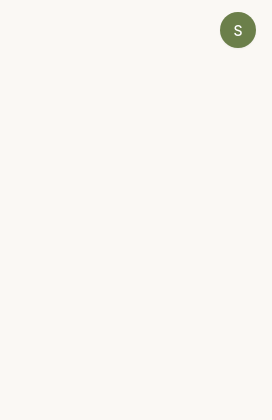
Scenario: ProfileMenu › logs out from the menu
The width and height of the screenshot is (272, 420).
Step 1. Click the button named "Account menu" → click(238, 30), box [220,12,256,48]
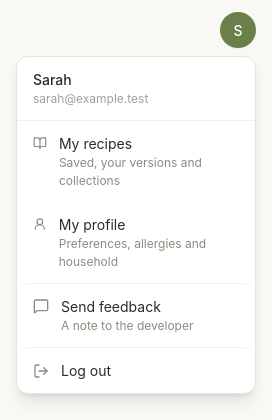
Step 2. Click the menu item "Log out" → click(136, 370), box [17,347,255,393]
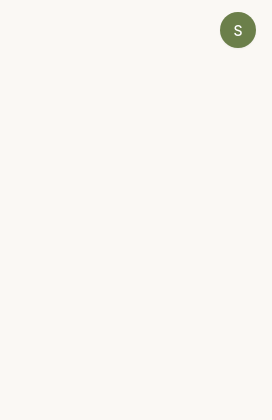
expect the menu is gone: met
